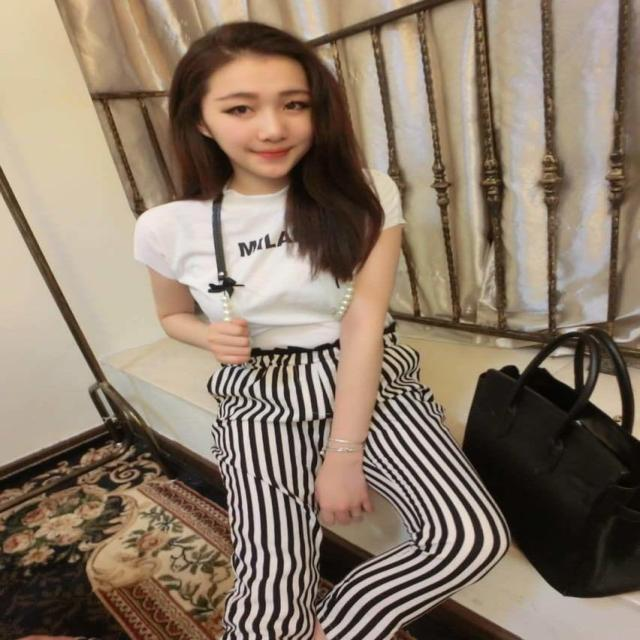short-sleeve-top: (120, 151, 450, 379)
trousers: (149, 393, 501, 626)
